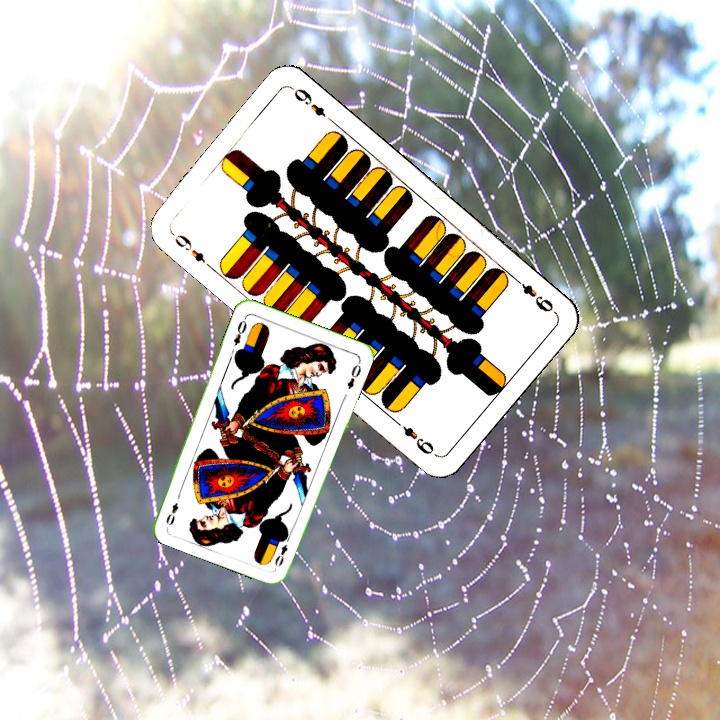E9: (167, 228, 215, 272), (509, 272, 556, 315)
EO: (271, 532, 293, 569), (229, 313, 249, 348)
